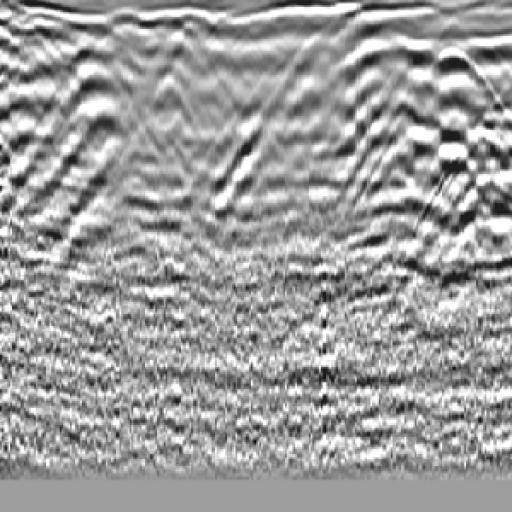non-metallic: (333, 33, 512, 264), (1, 38, 191, 243)
